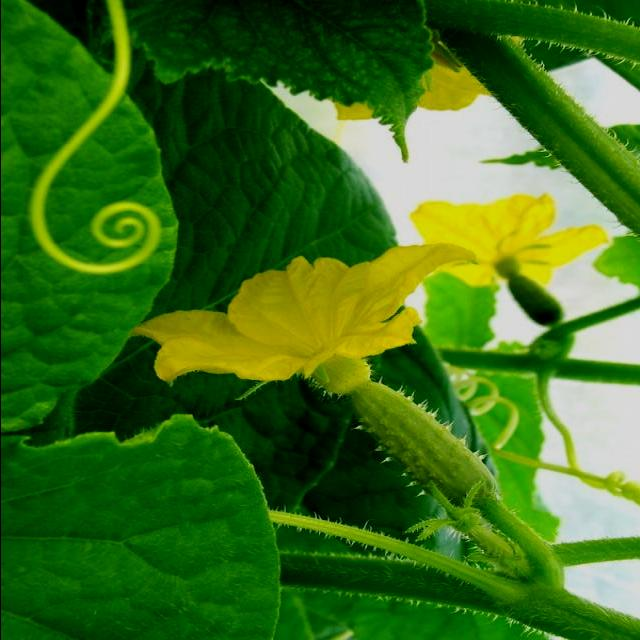cucumber: (346, 380, 504, 513), (506, 273, 566, 331)
